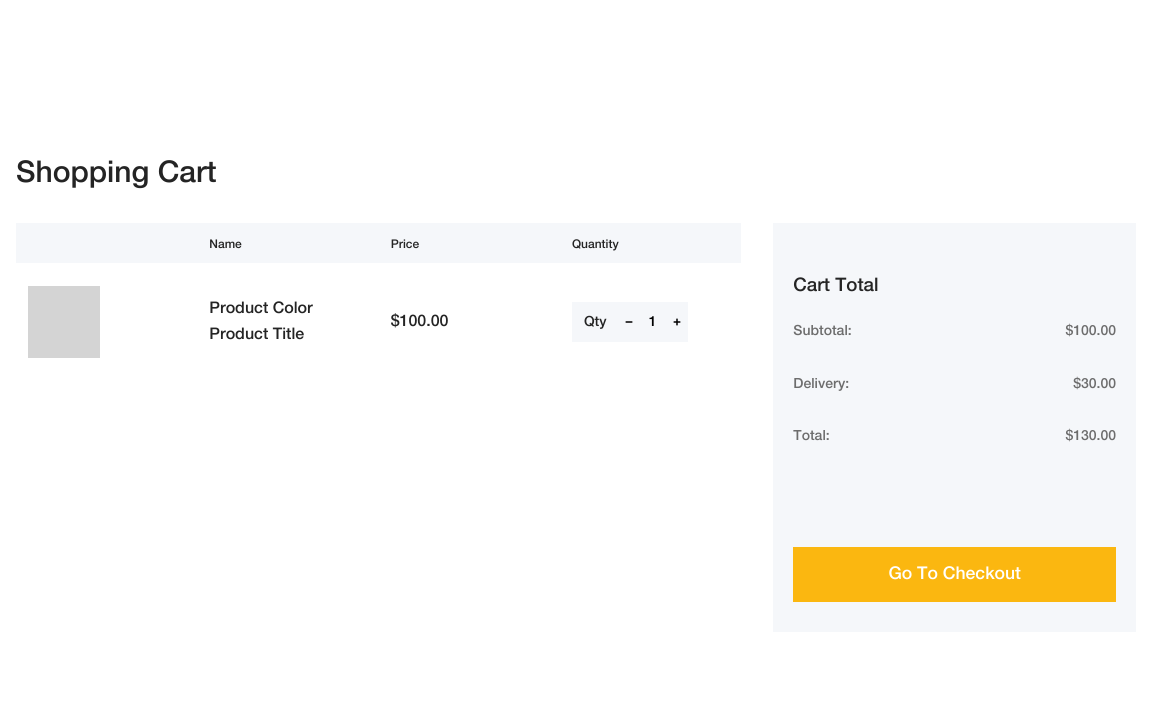
Cart component › Should remove the product from cart if the product quantity is 1 and the decrease button is clicked
Click the button named "decrease" at [628, 322], box [618,302,638,342]
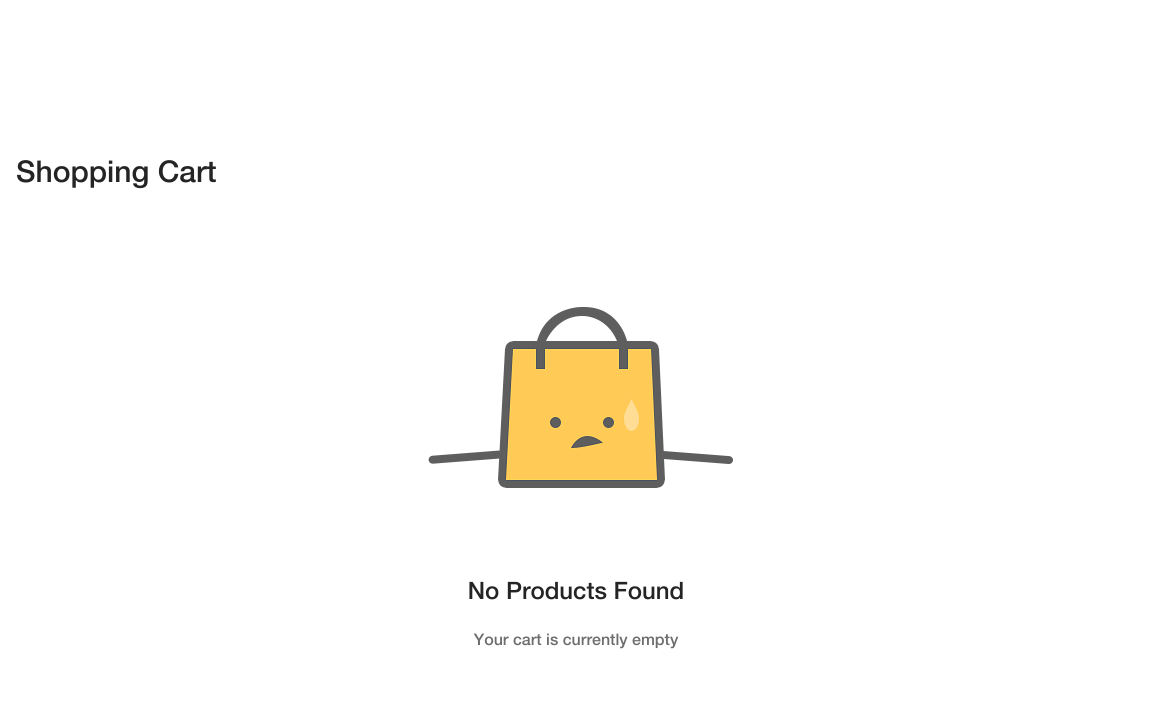
Check: the heading "product color product title" is gone
